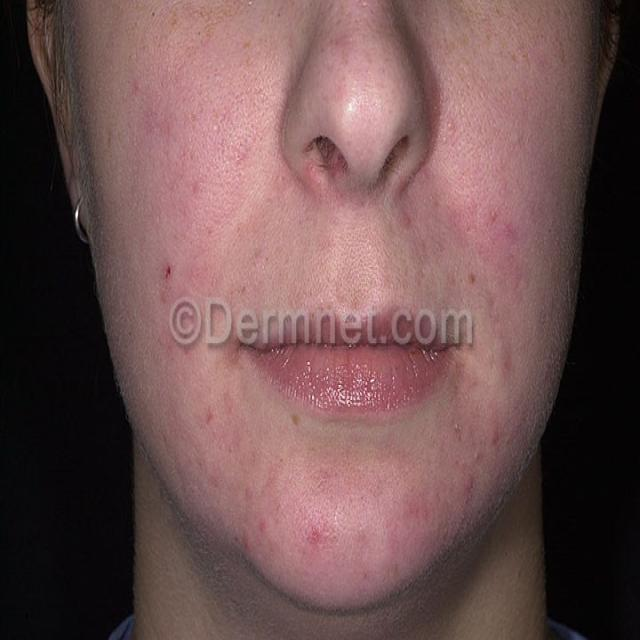Rosacea: (458, 215, 557, 486), (219, 479, 458, 589), (138, 237, 236, 486)
